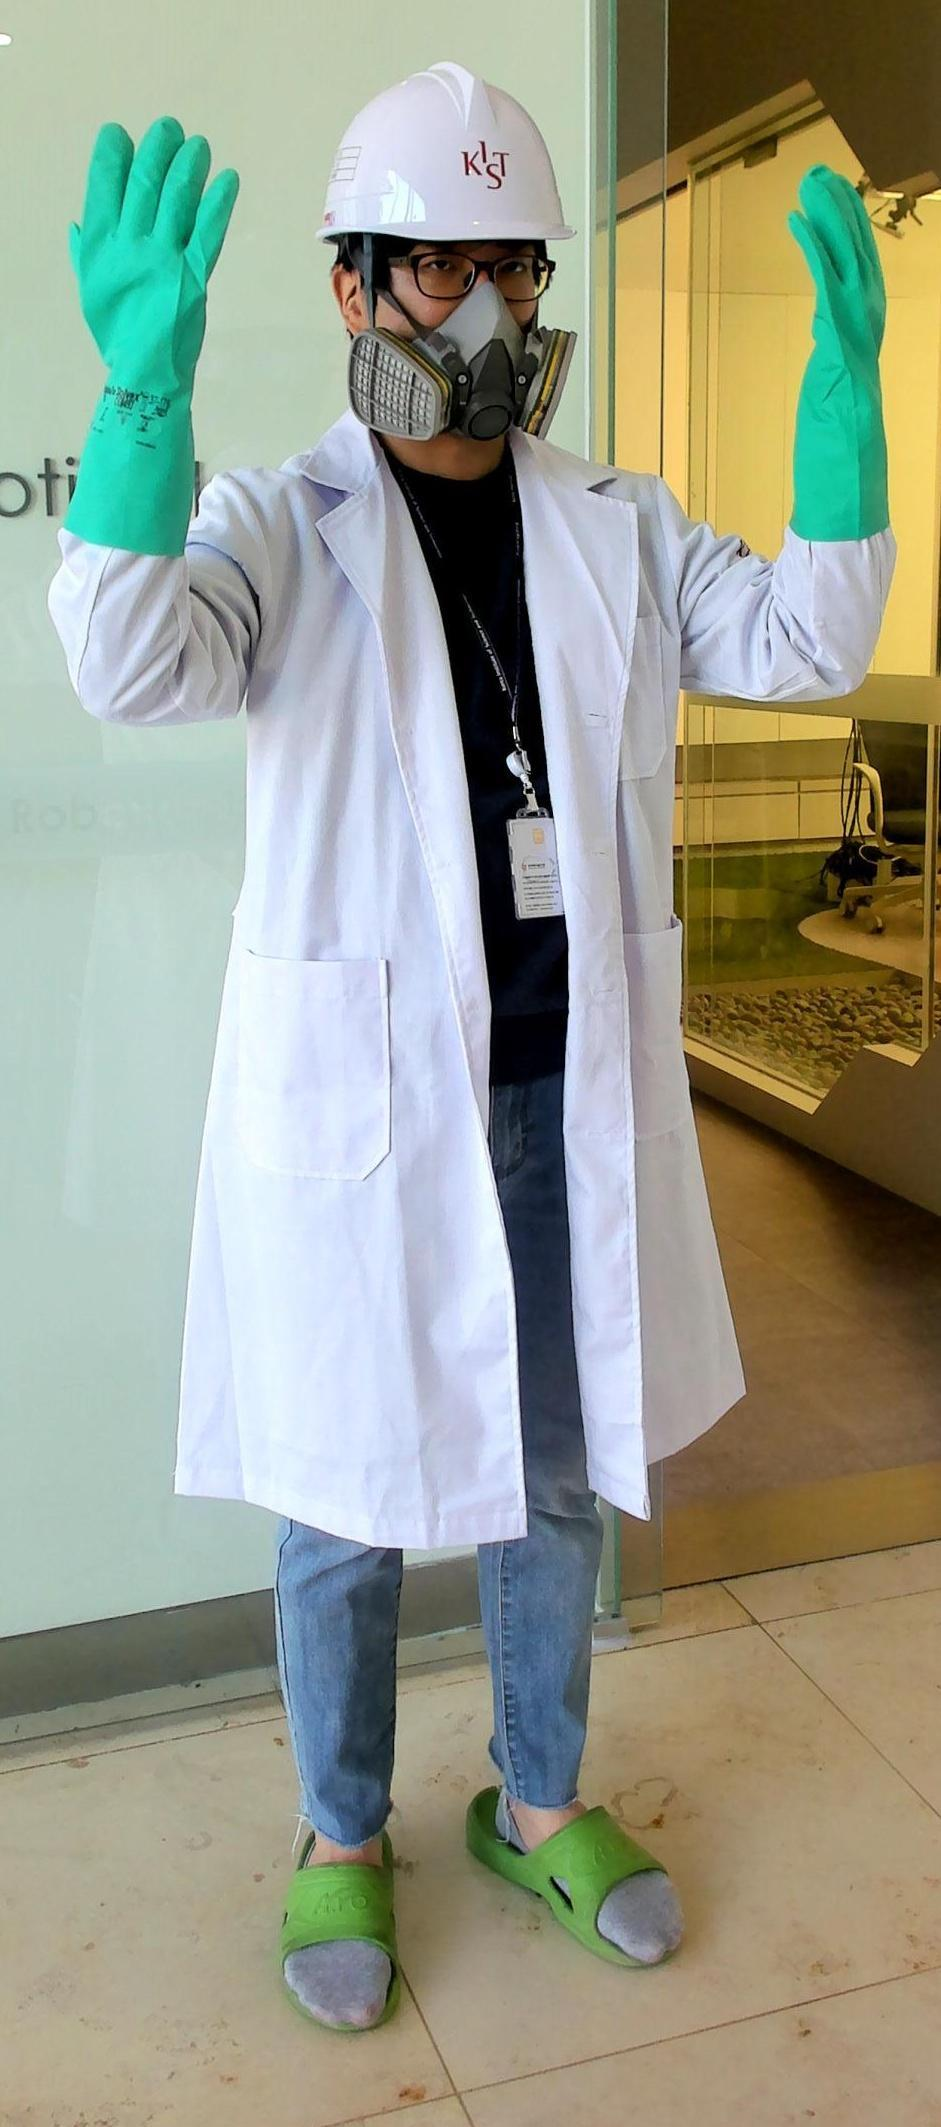lab_coat: (205, 496, 716, 1498)
